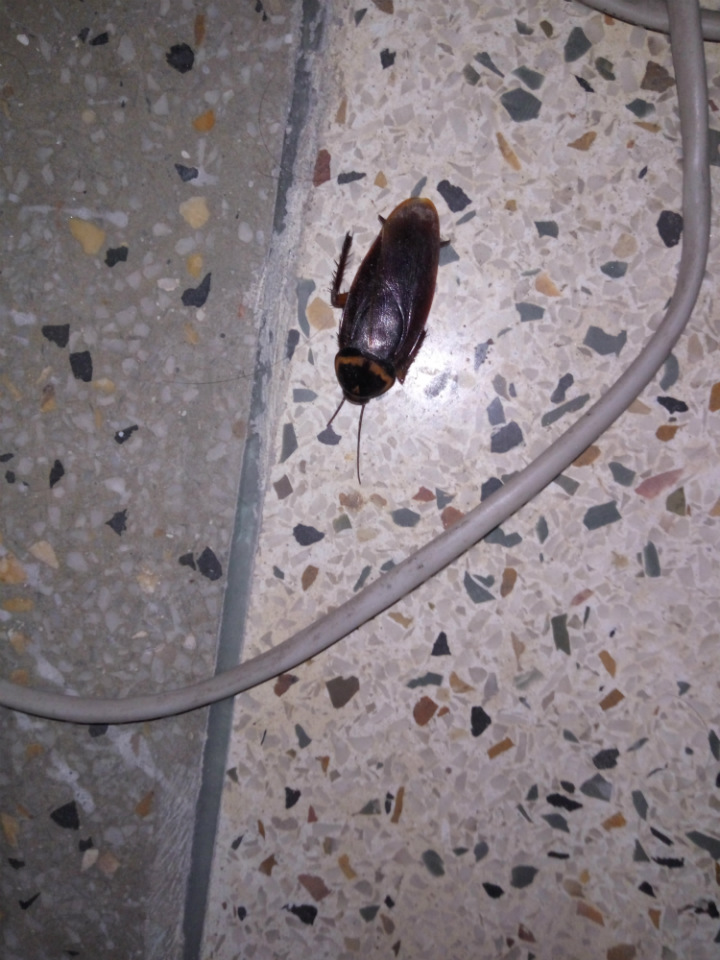cockroach: (310, 144, 469, 493)
